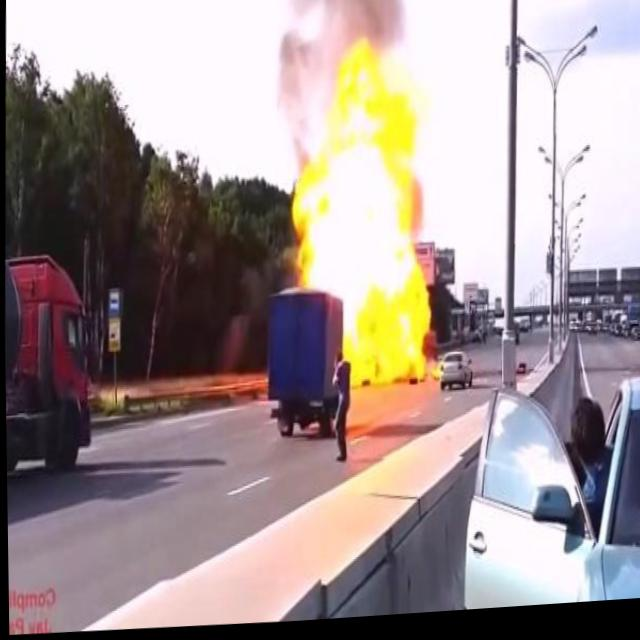fire: (288, 30, 437, 390)
